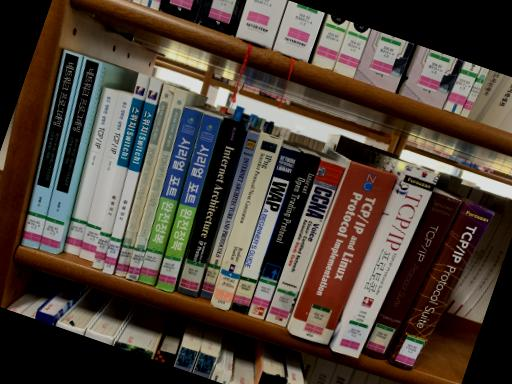book-spine: (332, 163, 440, 358), (288, 160, 396, 345), (388, 202, 495, 368), (362, 190, 462, 360), (210, 132, 284, 310), (265, 160, 344, 326), (175, 116, 246, 297), (39, 56, 102, 255), (21, 49, 83, 249), (101, 77, 163, 275), (125, 88, 188, 281), (248, 153, 321, 319), (114, 84, 176, 277), (229, 146, 298, 314), (138, 107, 203, 285), (156, 114, 221, 292), (91, 73, 150, 269), (199, 131, 259, 299), (63, 87, 118, 255), (79, 92, 132, 262)
